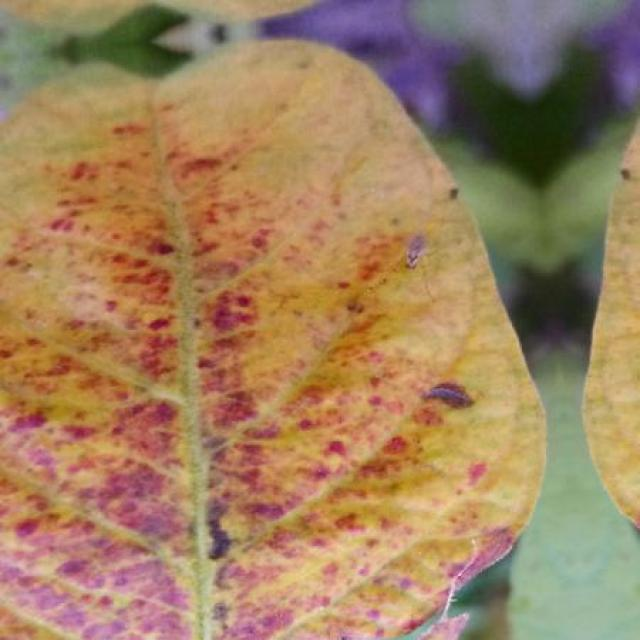Red Rust: (0, 41, 545, 639)
